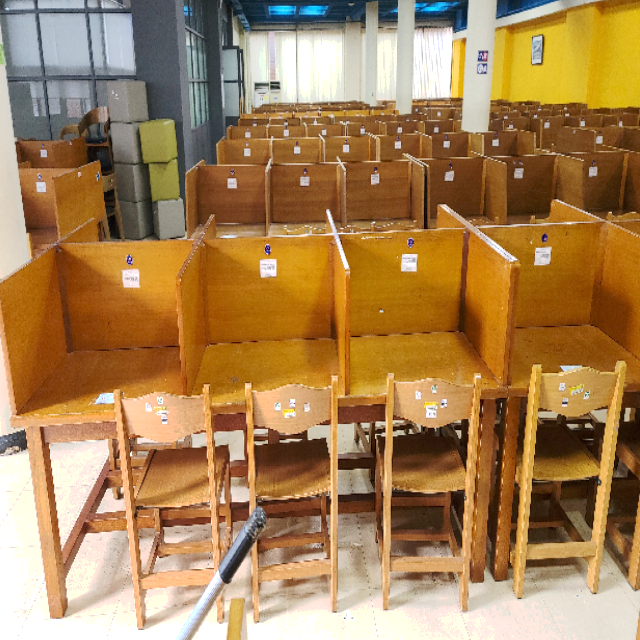empty: (1, 236, 175, 473), (184, 231, 348, 456), (356, 223, 516, 449)
